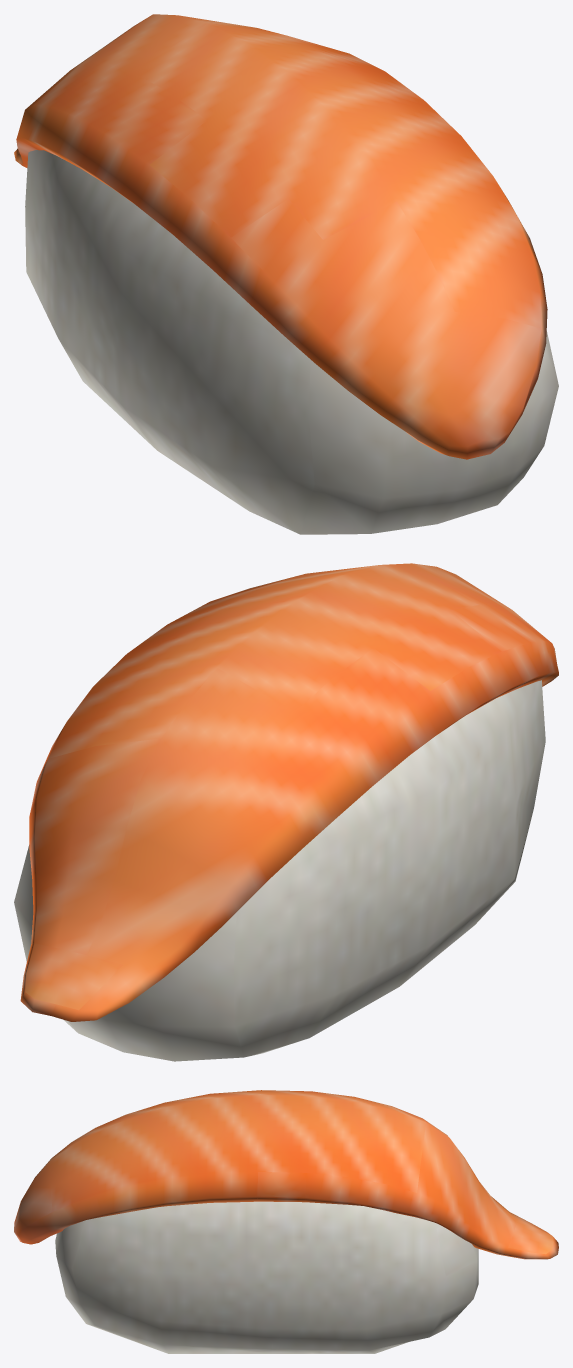
The picture shows the model from 3 angles, top to bottom: view 1: azimuth 30°, elevation 25°; view 2: azimuth 150°, elevation 25°; view 3: azimuth 270°, elevation 25°; orthographic projection. The views are drawn at different scales.
Parts seen in each view (by area): view 1: sushi; view 2: sushi; view 3: sushi.
Boxes of the visible parts, left/top/right/bottom form: sushi: left=14, top=14, right=558, bottom=534; sushi: left=14, top=563, right=558, bottom=1061; sushi: left=14, top=1090, right=558, bottom=1353.
Size of the model in its own units: 2.1 by 2.38 by 5.08.
1 material, 1 textured.
